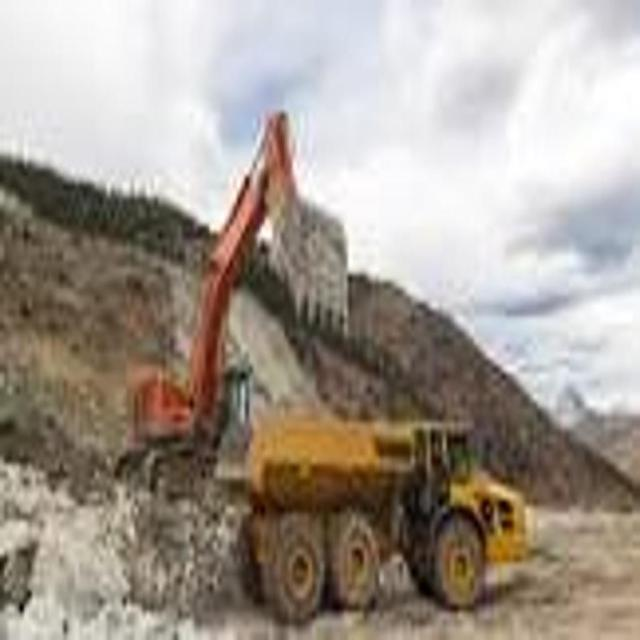dump_truck: (208, 395, 531, 624)
